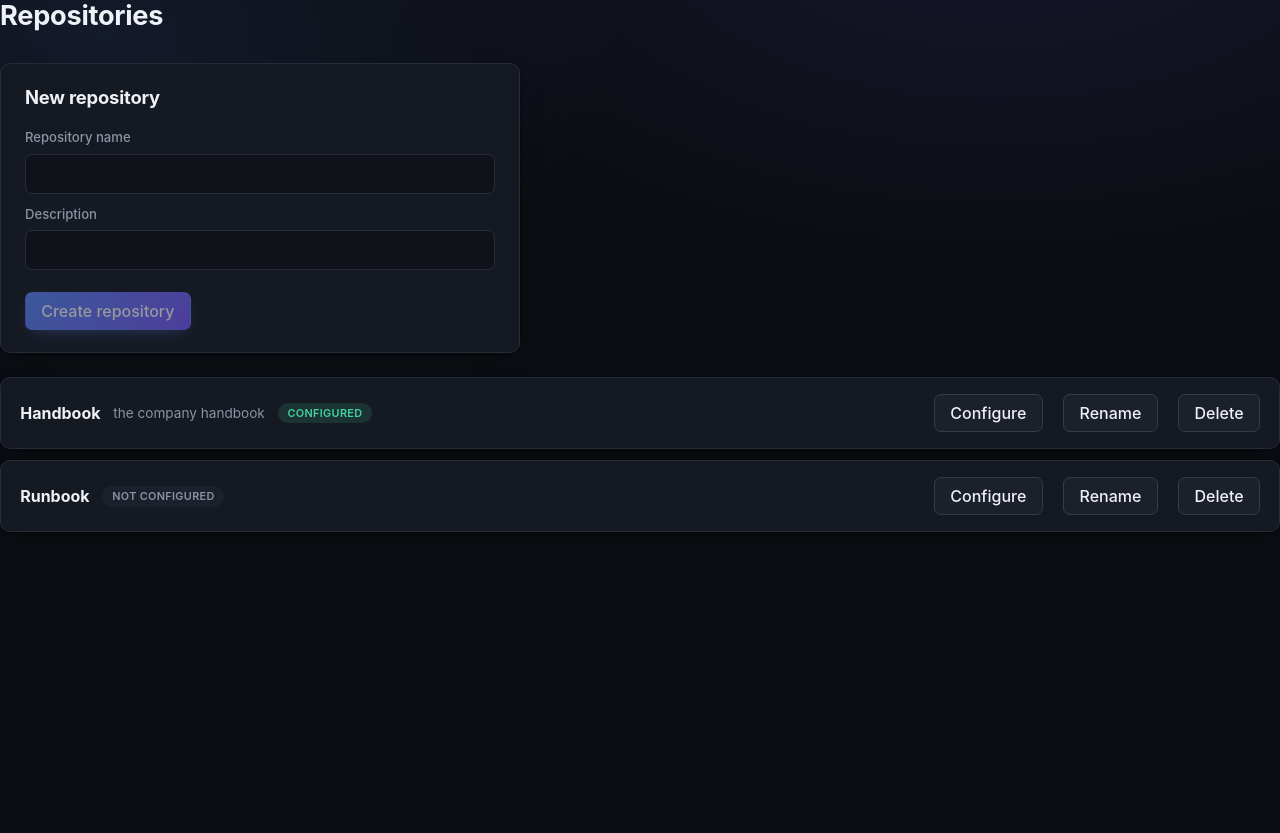
it: AdminRepositoriesPage › auto-loads the model list for a configured repo and changes the model
Click the button "Configure" in the row of "the company handbook" at {"x": 988, "y": 413}, box top-left (934, 394), bottom-right (1043, 432)
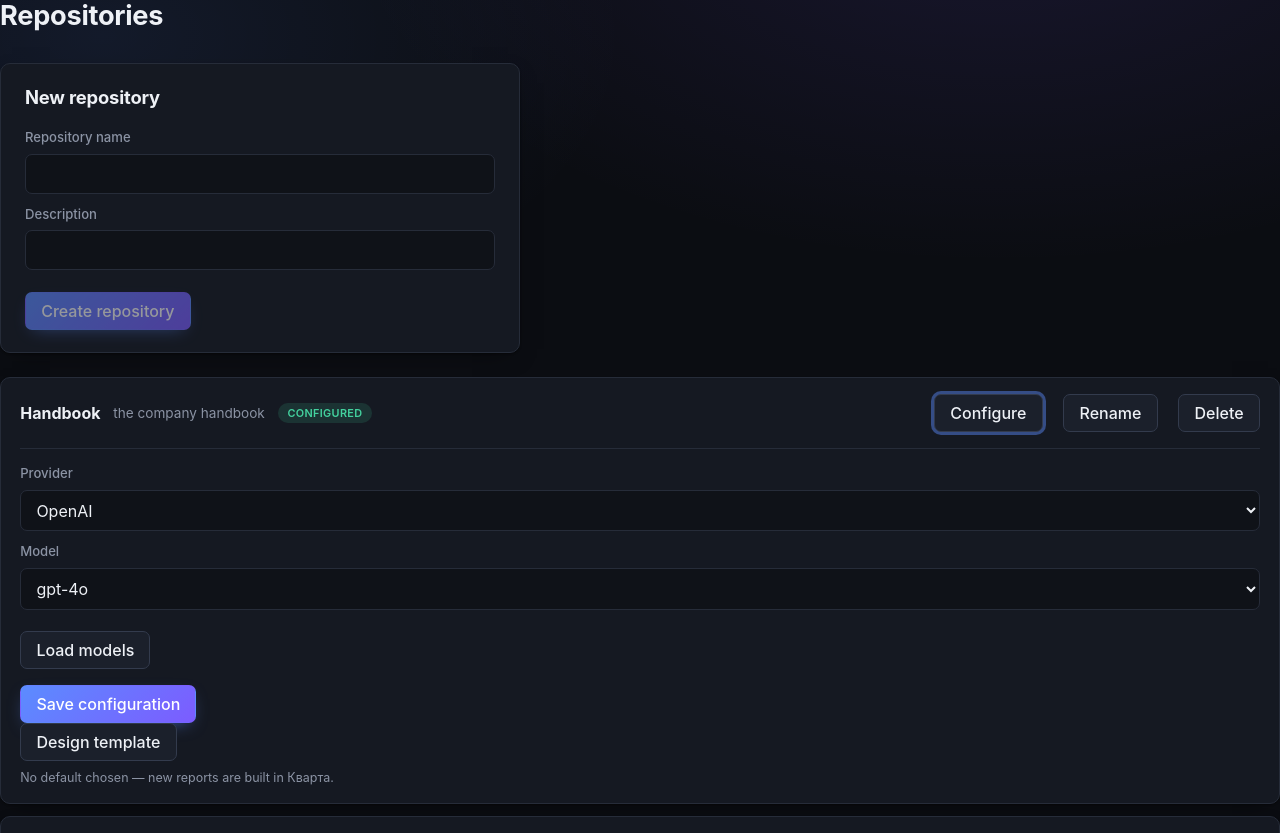
Expected: the dropdown labelled "Model" shows "gpt-4o"
Select "gpt-4o-mini" in the dropdown labelled "Model" at {"x": 640, "y": 589}, box top-left (20, 568), bottom-right (1260, 610)
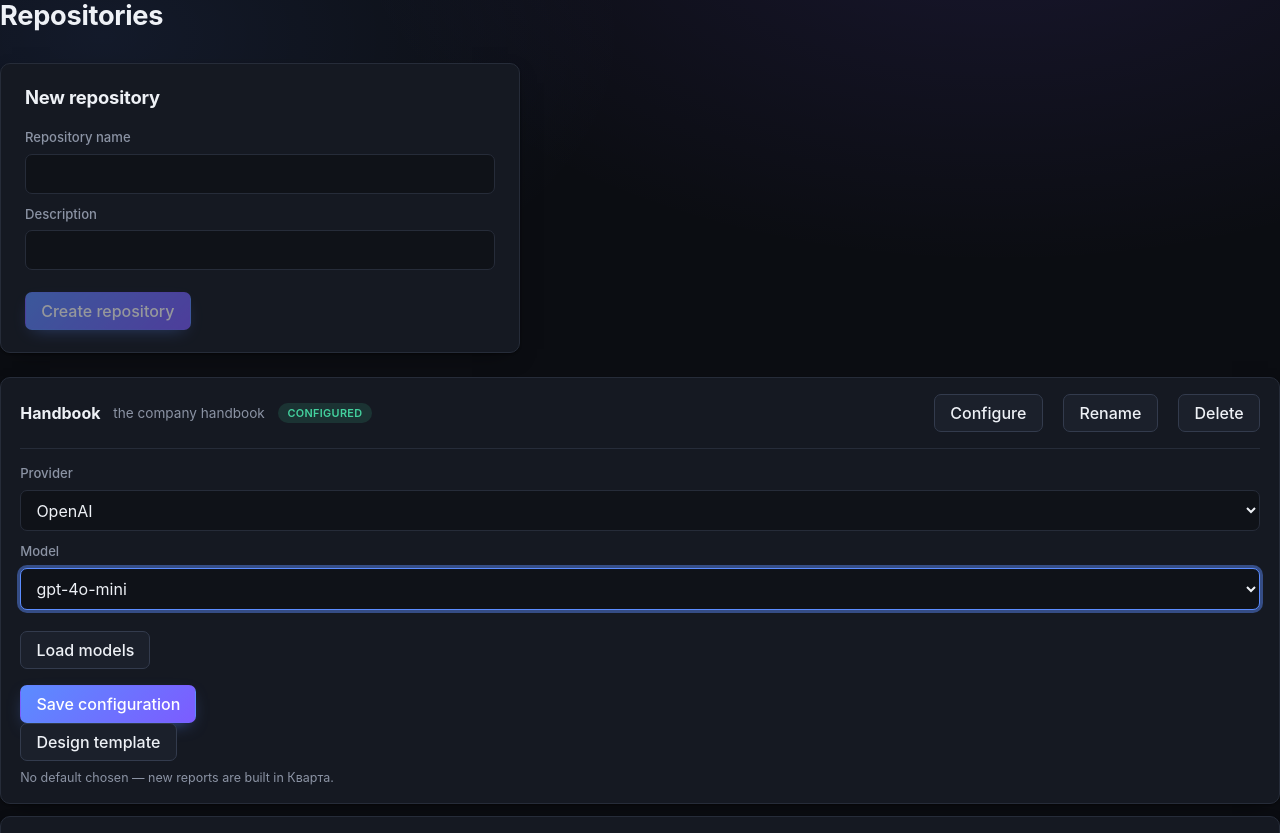
Click the button "Save configuration" at {"x": 108, "y": 704}, box top-left (20, 685), bottom-right (196, 723)
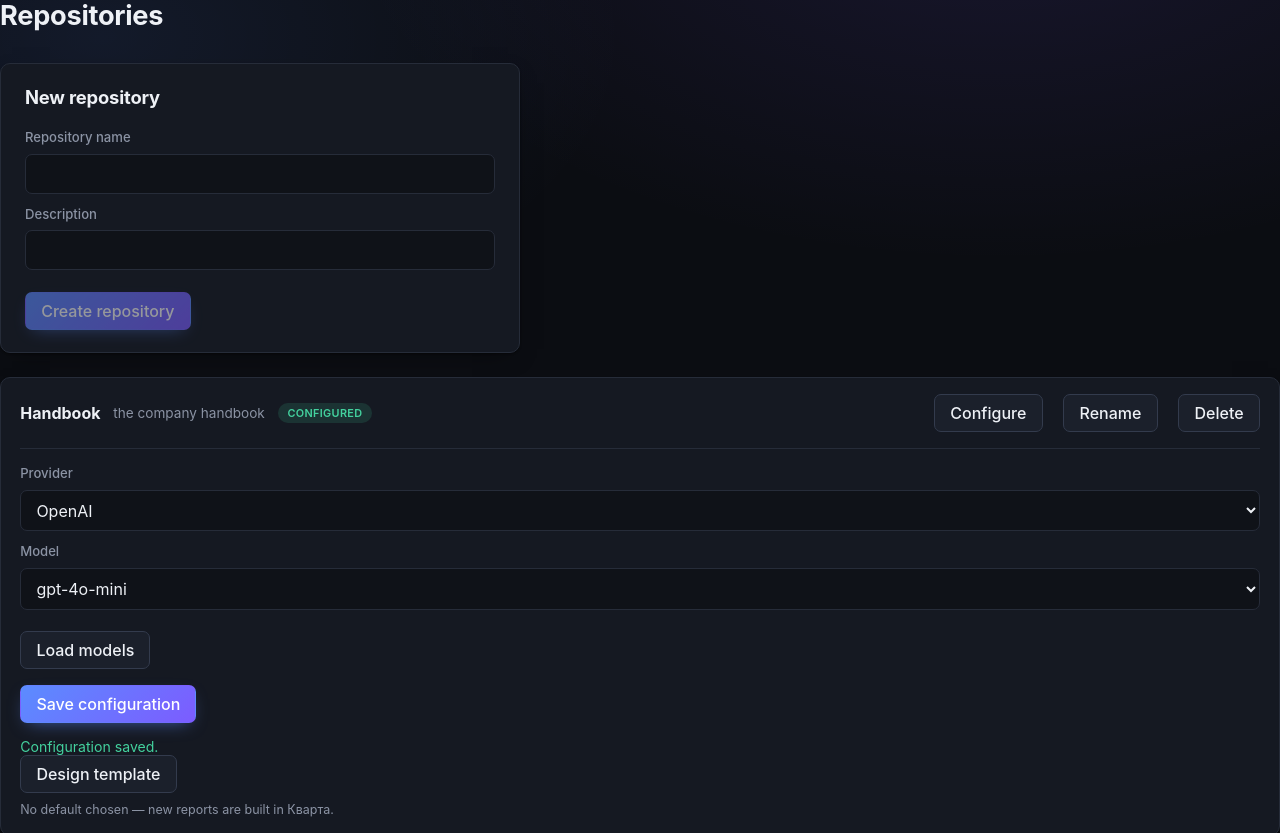
Expected: the text "Configuration saved." is shown, top-left (20, 738), bottom-right (158, 755)
